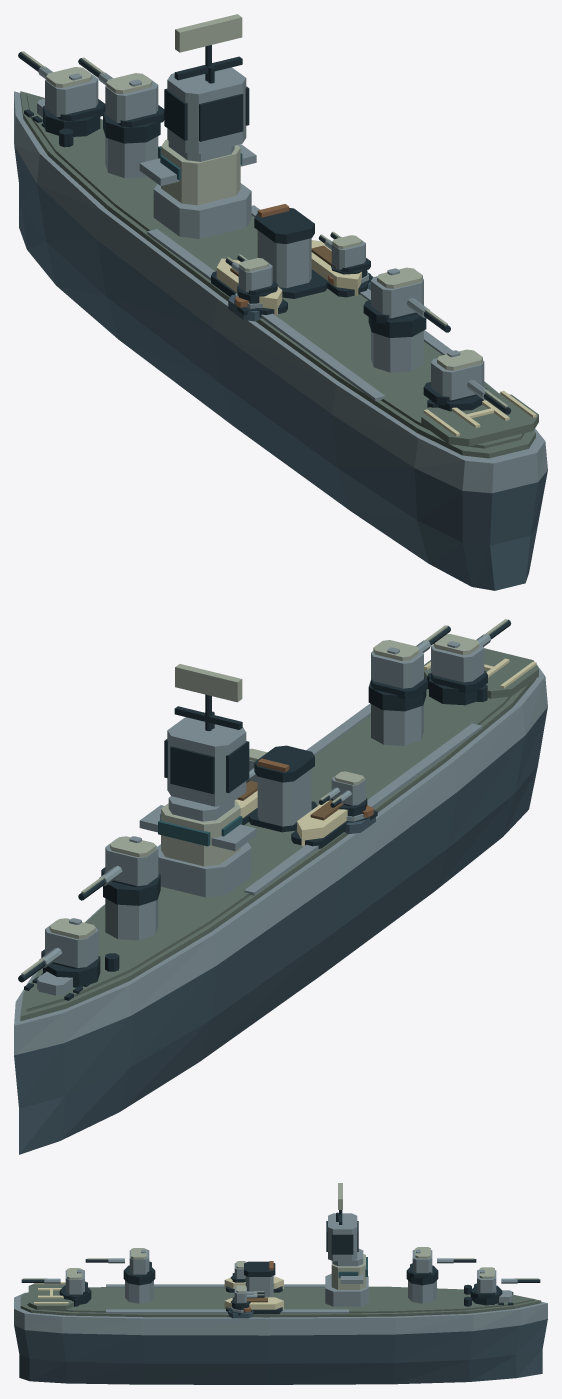
The model's file is historic-northampton-command.glb.
3 renders of one model, top to bottom at view 1: azimuth 30°, elevation 25°; view 2: azimuth 150°, elevation 25°; view 3: azimuth 270°, elevation 25°, orthographic. The views are drawn at different scales.
Visible parts, largest first — view 1: historic-northampton-command-historic-northampton-command-ge, historic-northampton-command-part_bridge.105-geometry, historic-northampton-command-historic_funnel_0.103-geometry, historic-northampton-command-turret_main_1.072-geometry, historic-northampton-command-turret_main_2.065-geometry, historic-northampton-command-turret_main_0.076-geometry, historic-northampton-command-turret_main_3.040-geometry, historic-northampton-command-turret_aa_aa-port.107-geometry, historic-northampton-command-turret_aa_aa-starboard.103-geom; view 2: historic-northampton-command-historic-northampton-command-ge, historic-northampton-command-part_bridge.105-geometry, historic-northampton-command-historic_funnel_0.103-geometry, historic-northampton-command-turret_main_2.065-geometry, historic-northampton-command-turret_main_1.072-geometry, historic-northampton-command-turret_main_3.040-geometry, historic-northampton-command-turret_main_0.076-geometry, historic-northampton-command-turret_aa_aa-port.107-geometry; view 3: historic-northampton-command-historic-northampton-command-ge, historic-northampton-command-part_bridge.105-geometry, historic-northampton-command-turret_main_1.072-geometry, historic-northampton-command-turret_main_2.065-geometry, historic-northampton-command-turret_main_0.076-geometry, historic-northampton-command-turret_main_3.040-geometry, historic-northampton-command-historic_funnel_0.103-geometry, historic-northampton-command-turret_aa_aa-starboard.103-geom, historic-northampton-command-turret_aa_aa-port.107-geometry.
Boxes of the visible parts, x1,y1,x2,y2 form: historic-northampton-command-historic-northampton-command-ge: [14, 91, 547, 590]; historic-northampton-command-part_bridge.105-geometry: [139, 14, 256, 238]; historic-northampton-command-historic_funnel_0.103-geometry: [254, 204, 327, 298]; historic-northampton-command-turret_main_1.072-geometry: [78, 57, 164, 143]; historic-northampton-command-turret_main_2.065-geometry: [363, 267, 450, 337]; historic-northampton-command-turret_main_0.076-geometry: [18, 51, 105, 136]; historic-northampton-command-turret_main_3.040-geometry: [423, 349, 511, 414]; historic-northampton-command-turret_aa_aa-port.107-geometry: [225, 254, 277, 303]; historic-northampton-command-turret_aa_aa-starboard.103-geom: [318, 231, 370, 277]; historic-northampton-command-historic-northampton-command-ge: [14, 648, 547, 1154]; historic-northampton-command-part_bridge.105-geometry: [139, 664, 256, 897]; historic-northampton-command-historic_funnel_0.103-geometry: [248, 745, 317, 832]; historic-northampton-command-turret_main_2.065-geometry: [368, 625, 450, 711]; historic-northampton-command-turret_main_1.072-geometry: [78, 836, 160, 905]; historic-northampton-command-turret_main_3.040-geometry: [429, 619, 511, 705]; historic-northampton-command-turret_main_0.076-geometry: [18, 918, 100, 987]; historic-northampton-command-turret_aa_aa-port.107-geometry: [318, 771, 367, 816]; historic-northampton-command-historic-northampton-command-ge: [14, 1276, 547, 1384]; historic-northampton-command-part_bridge.105-geometry: [325, 1183, 368, 1306]; historic-northampton-command-turret_main_1.072-geometry: [406, 1247, 476, 1285]; historic-northampton-command-turret_main_2.065-geometry: [85, 1248, 155, 1285]; historic-northampton-command-turret_main_0.076-geometry: [470, 1267, 540, 1305]; historic-northampton-command-turret_main_3.040-geometry: [21, 1268, 91, 1304]; historic-northampton-command-historic_funnel_0.103-geometry: [244, 1261, 275, 1297]; historic-northampton-command-turret_aa_aa-starboard.103-geom: [231, 1285, 264, 1310]; historic-northampton-command-turret_aa_aa-port.107-geometry: [230, 1261, 246, 1282].
Size of the model in its own units: 0.6708 by 1.63 by 4.32.
